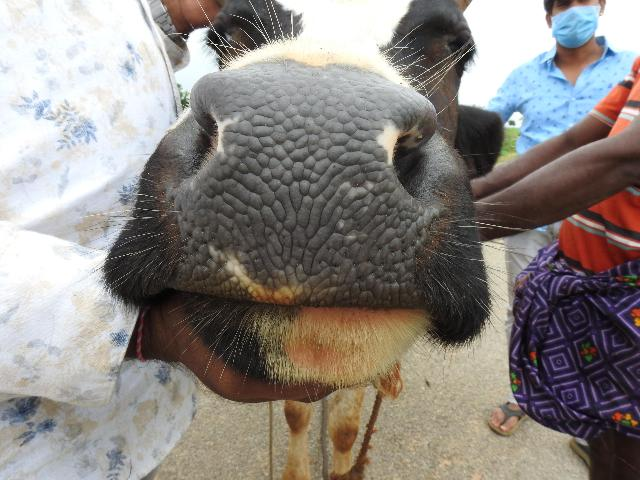Muzzle: (193, 73, 423, 309)
